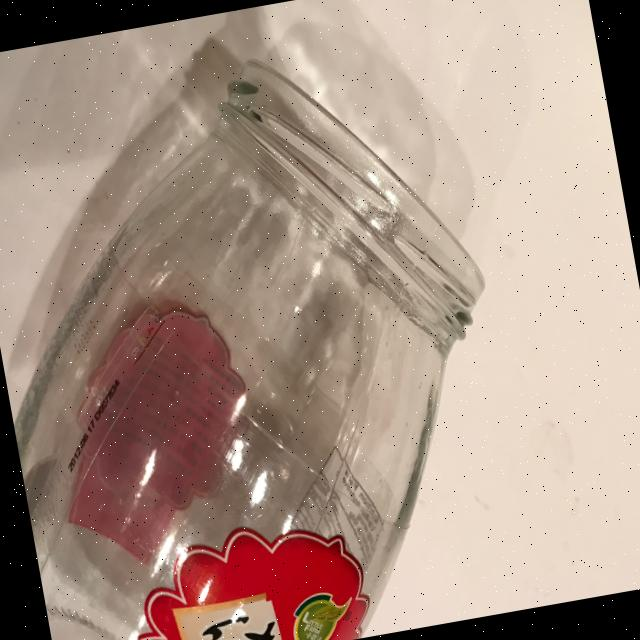glass: (0, 23, 542, 640)
